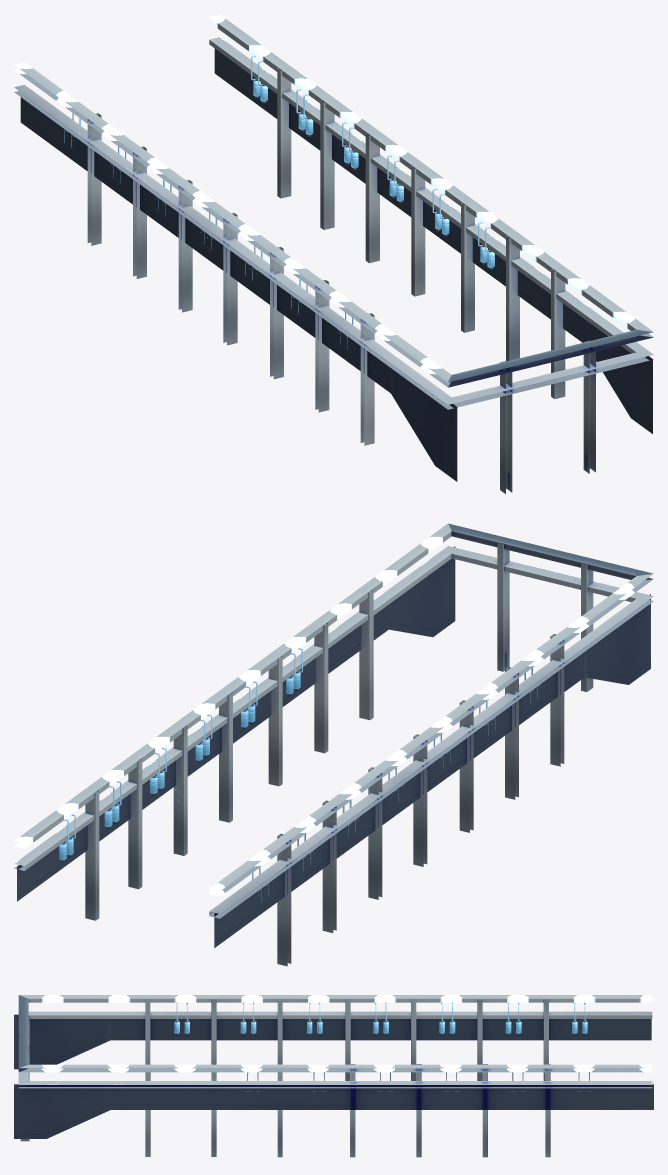
The model's file is columnas 1.fbx.
3 views of the same model, one above another, from view 1: azimuth 30°, elevation 25°; view 2: azimuth 150°, elevation 25°; view 3: azimuth 270°, elevation 25° (orthographic). The views are drawn at different scales.
Parts seen in each view (by area): view 1: columnas, plano, Cylinder_uvs; view 2: columnas, plano, Cylinder_uvs; view 3: plano, columnas, Cylinder_uvs2.
Boxes of the visible parts, x1,y1,x2,y2 form: columnas: (14, 14, 653, 493); plano: (20, 48, 652, 481); Cylinder_uvs: (251, 55, 494, 269); columnas: (14, 523, 653, 966); plano: (17, 546, 650, 947); Cylinder_uvs: (59, 648, 302, 862); plano: (14, 1014, 653, 1138); columnas: (18, 995, 652, 1157); Cylinder_uvs2: (174, 1002, 587, 1035).
Size of the model in its own units: 910 by 538 by 3354.
